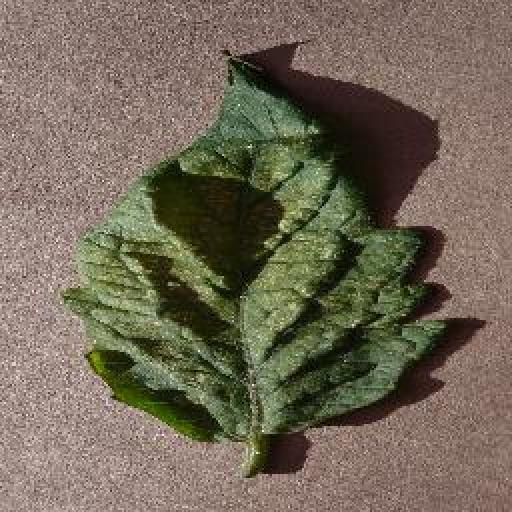Spider Mites: (56, 48, 445, 447)
